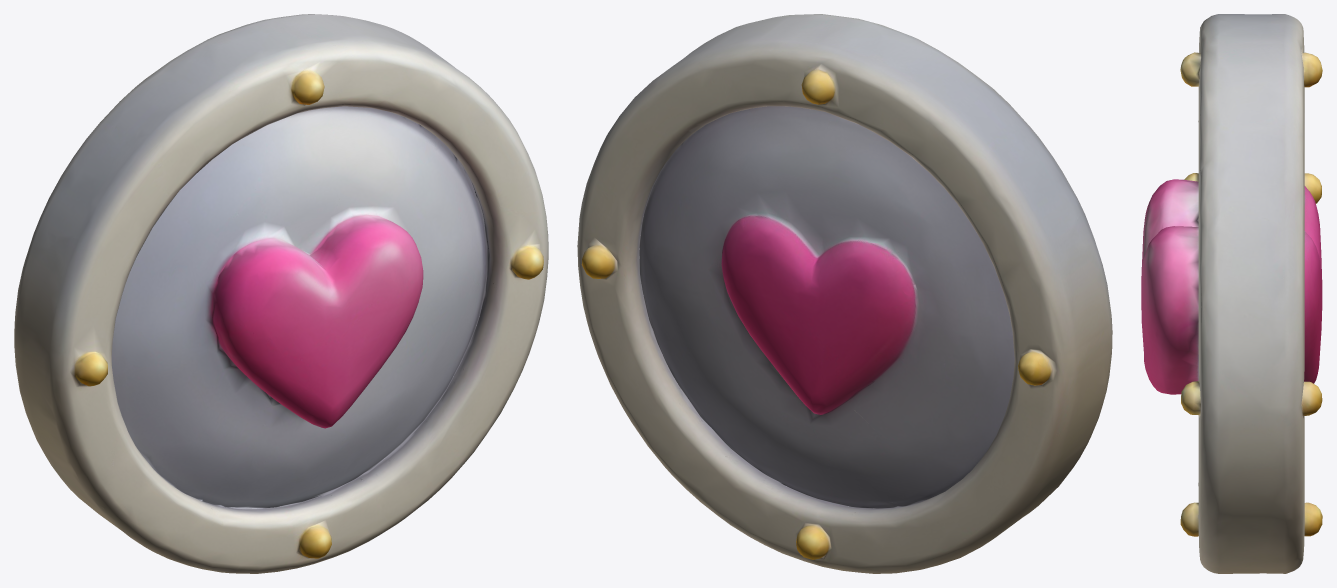
File: cs-knight-shield.glb
The picture shows the model from 3 angles, left to right: view 1: azimuth 30°, elevation 25°; view 2: azimuth 150°, elevation 25°; view 3: azimuth 270°, elevation 25°; orthographic projection. The views are drawn at different scales.
Parts seen in each view (by area): view 1: tripo_node_76ca5d88-cd4f-4f05-9d8a-145475b3581d; view 2: tripo_node_76ca5d88-cd4f-4f05-9d8a-145475b3581d; view 3: tripo_node_76ca5d88-cd4f-4f05-9d8a-145475b3581d.
Boxes of the visible parts, <box> form: tripo_node_76ca5d88-cd4f-4f05-9d8a-145475b3581d: <box>14,14,548,573</box>; tripo_node_76ca5d88-cd4f-4f05-9d8a-145475b3581d: <box>577,14,1112,573</box>; tripo_node_76ca5d88-cd4f-4f05-9d8a-145475b3581d: <box>1141,14,1322,573</box>.
Bounding box in the file's own units: 0.9996 × 1 × 0.3224.
Materials: 1 (1 with a texture image).
